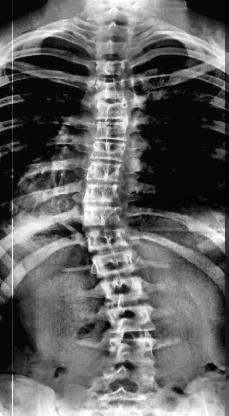Vertebrae: (104, 304, 158, 334), (96, 364, 158, 390), (106, 336, 158, 366), (87, 249, 142, 277), (83, 226, 135, 254), (94, 388, 154, 412), (98, 274, 148, 302), (89, 96, 134, 124), (81, 160, 129, 186), (78, 205, 126, 229), (87, 141, 133, 165), (79, 182, 125, 206), (88, 76, 130, 102), (89, 118, 133, 142), (94, 40, 130, 60), (92, 60, 128, 80), (94, 24, 132, 42)
